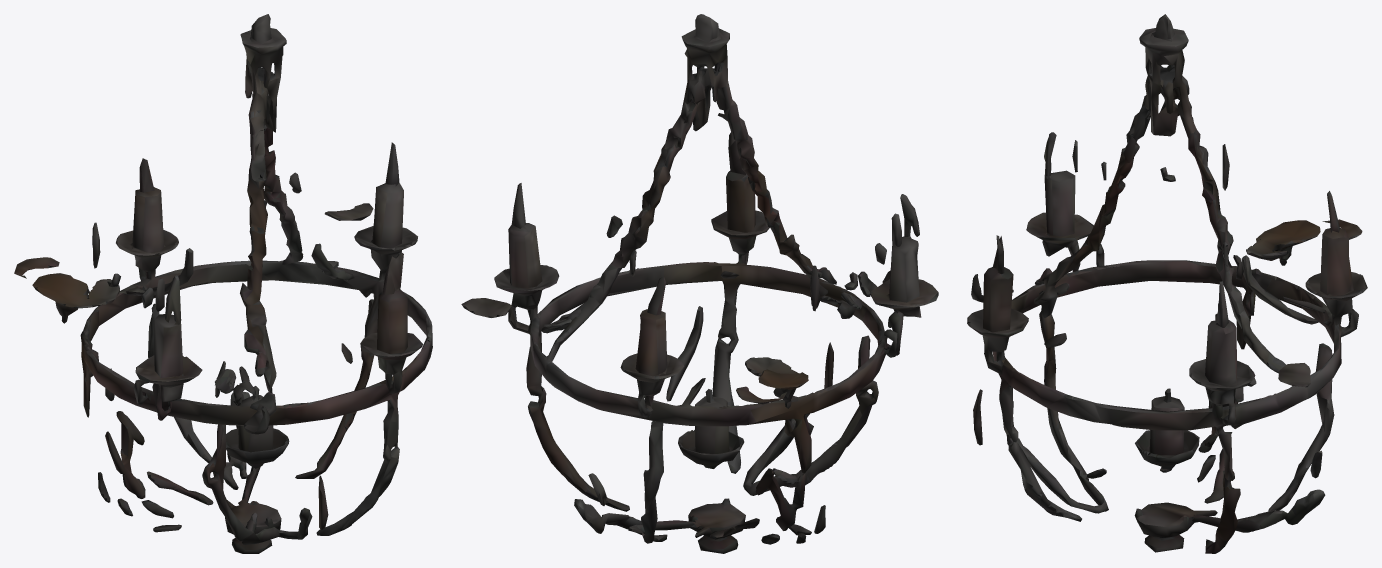
The model's file is weathered-iron-chandelier-v001.glb.
3 views of the same model, side by side, from view 1: azimuth 30°, elevation 25°; view 2: azimuth 150°, elevation 25°; view 3: azimuth 270°, elevation 25° (orthographic).
Parts seen in each view (by area): view 1: weathered-iron-chandelier; view 2: weathered-iron-chandelier; view 3: weathered-iron-chandelier.
Boxes of the visible parts, bbox=[...] form: weathered-iron-chandelier: bbox=[14, 14, 432, 553]; weathered-iron-chandelier: bbox=[461, 14, 938, 553]; weathered-iron-chandelier: bbox=[967, 14, 1367, 553].
Bounding box in the file's own units: 0.6181 × 0.8757 × 0.5937.
1 material, 1 textured.
